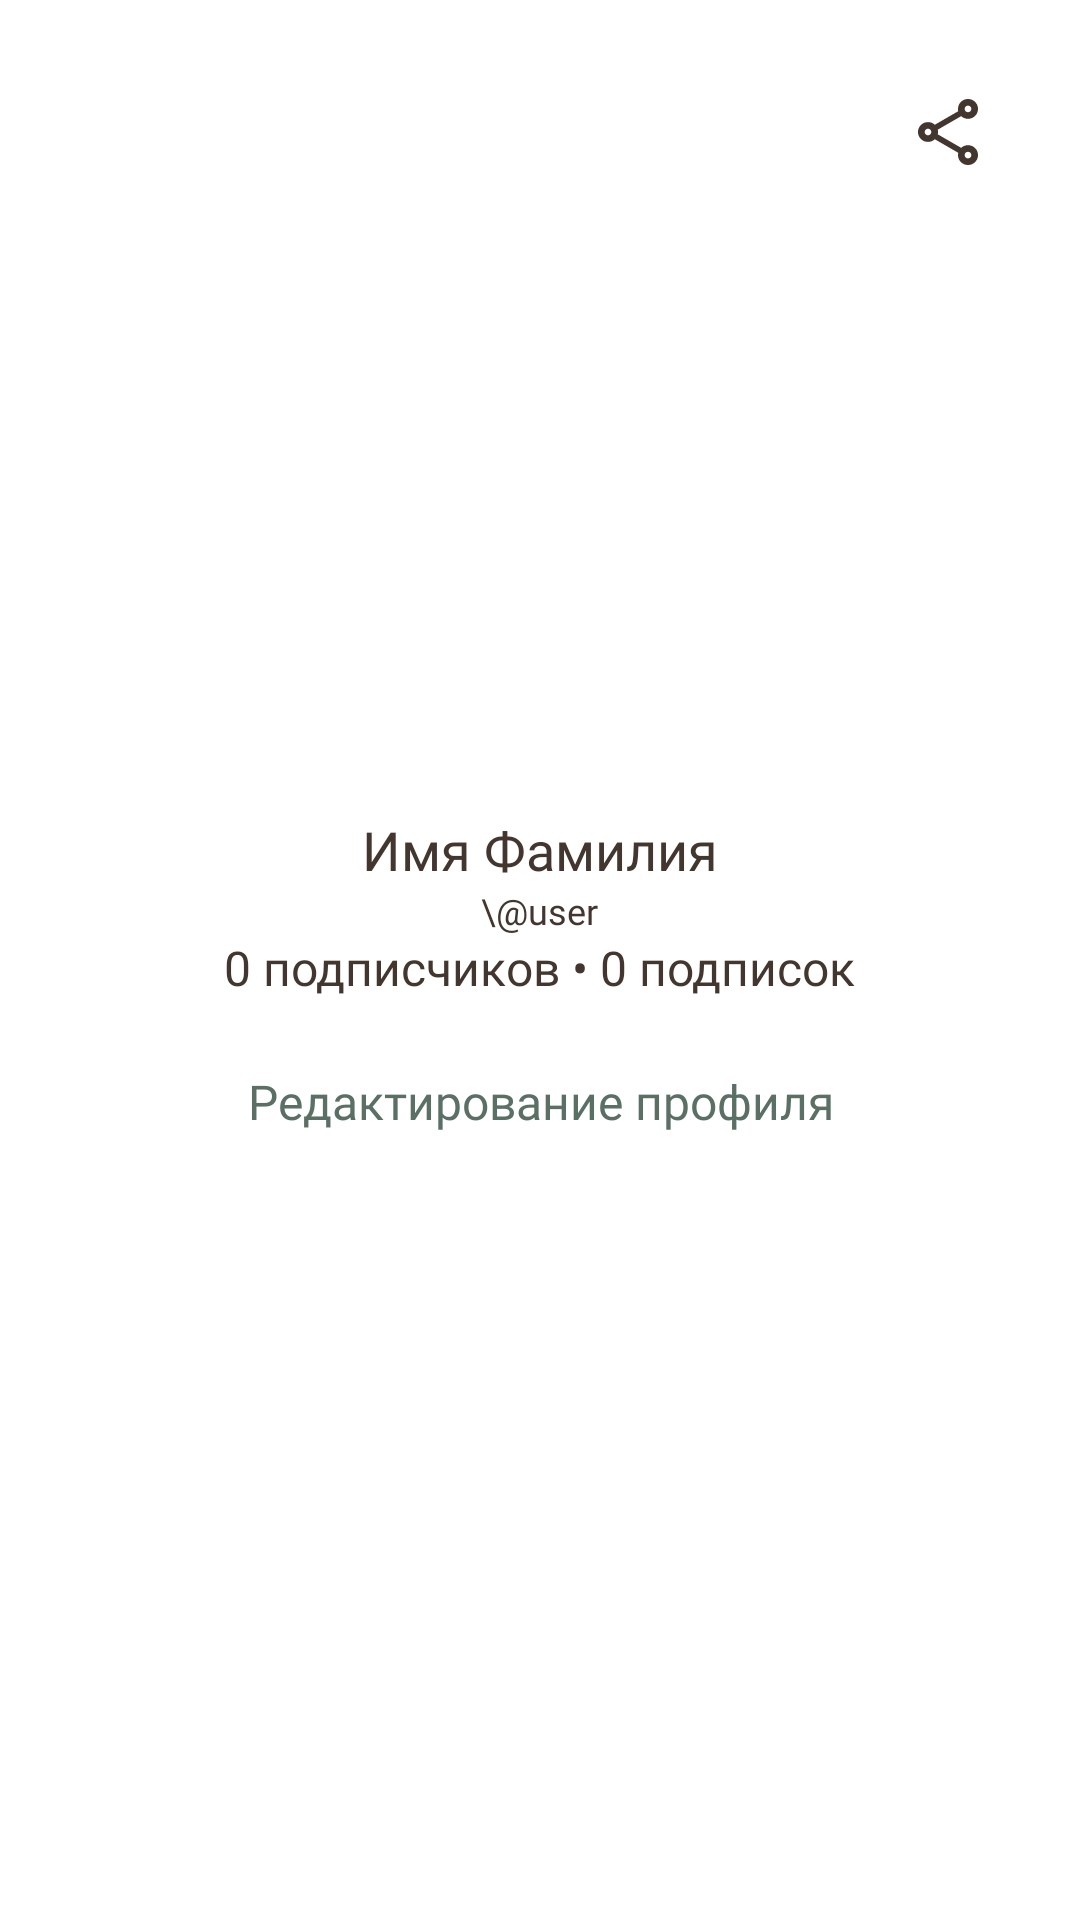

Icons on this 1080px x 1920px Android screen, each with its box as (x1, y1, x2, y2):
share: (918, 99, 978, 165)
